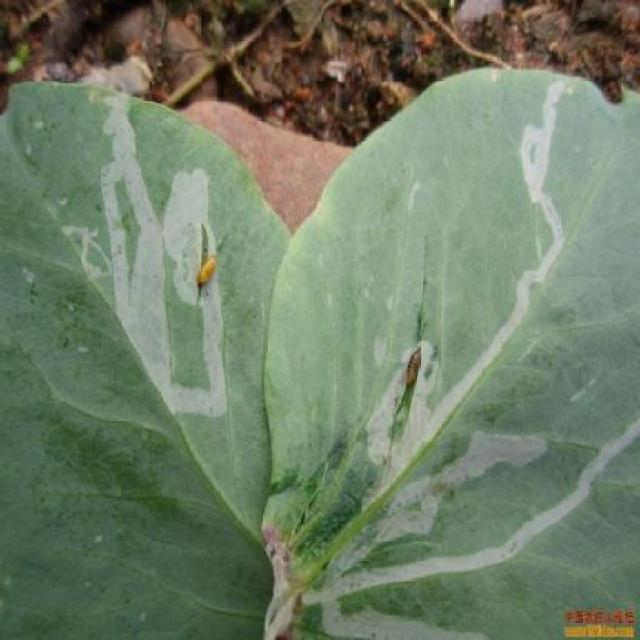whorl-maggot: (190, 252, 224, 298), (404, 345, 425, 397)
